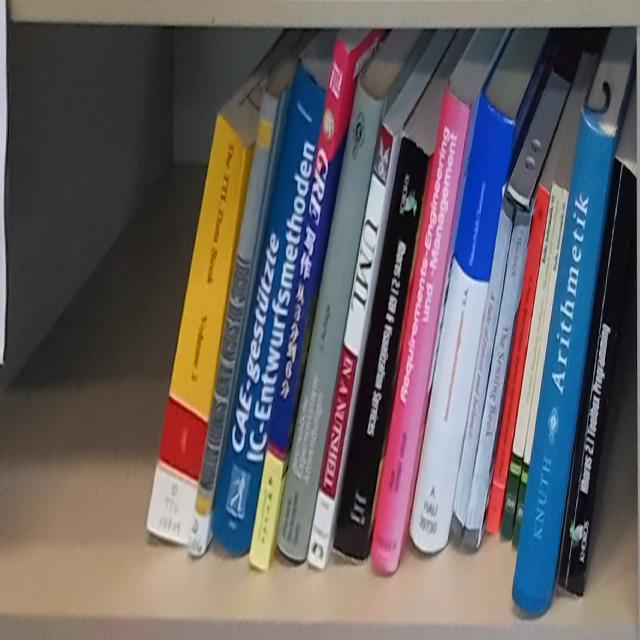Book Spine: (208, 59, 329, 556), (247, 36, 350, 574), (513, 102, 614, 617), (274, 80, 380, 562), (410, 85, 514, 556), (371, 85, 469, 577), (188, 89, 283, 559), (146, 116, 248, 550), (333, 131, 429, 563), (308, 123, 395, 575), (557, 157, 637, 604), (483, 182, 552, 533), (462, 209, 533, 548), (451, 194, 516, 546), (510, 186, 571, 550), (501, 180, 563, 537)
